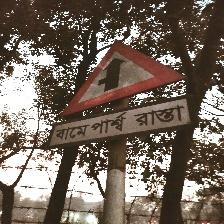Side-road-left: (49, 41, 193, 150)
